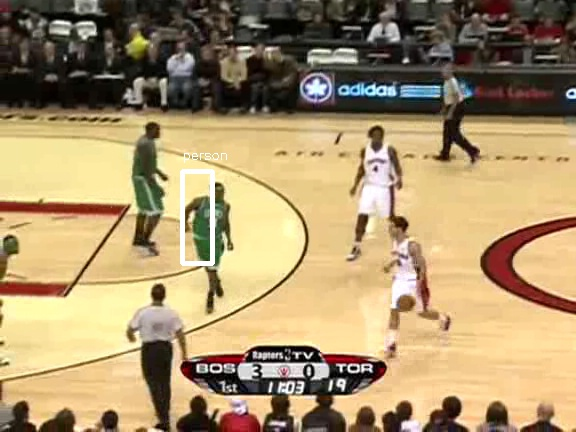person: (193, 199, 227, 280), (192, 199, 226, 280), (194, 199, 228, 280), (193, 198, 227, 279), (193, 200, 227, 281)
target_negative: (388, 78, 552, 390), (333, 102, 451, 186), (535, 82, 560, 218), (479, 389, 517, 423), (497, 75, 506, 147), (383, 145, 392, 174)
